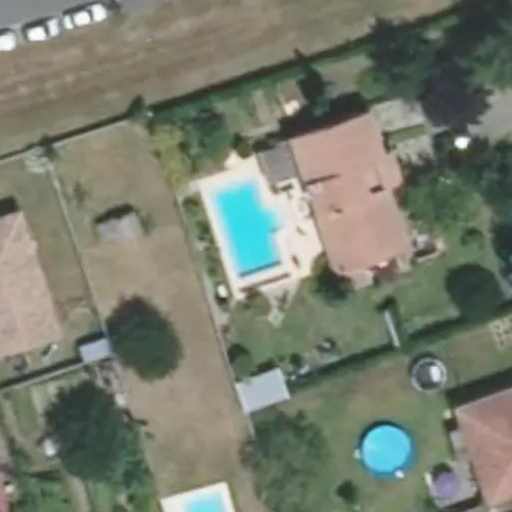pool: (219, 205, 293, 278)
